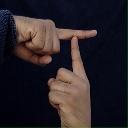hand: (10, 15, 98, 66), (47, 34, 92, 127)
